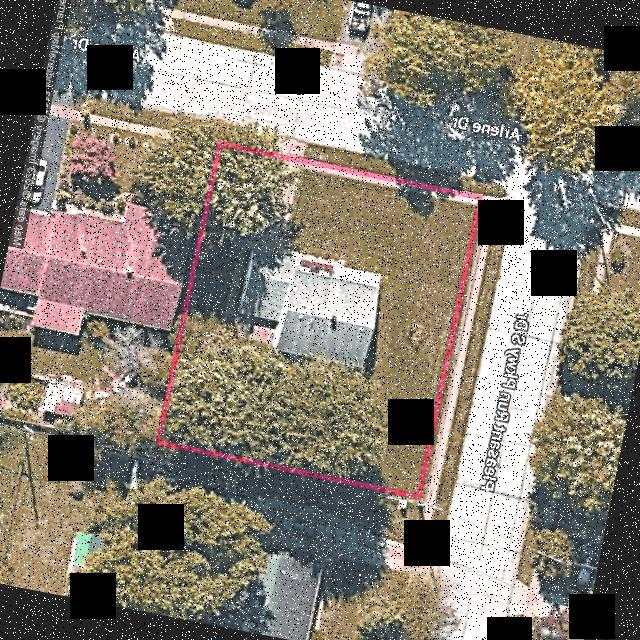Driveway: (257, 157, 302, 253)
Extra Driveway: (276, 133, 310, 156)
Extra Lawn: (436, 208, 512, 504), (421, 204, 487, 499), (301, 142, 486, 194), (219, 123, 279, 152)
Extra Sidewalk: (425, 194, 513, 501)
House: (238, 247, 378, 366)
Other: (233, 313, 278, 347)
Sidewalk: (301, 162, 478, 204), (222, 231, 260, 340), (287, 249, 381, 286), (221, 146, 274, 163)
